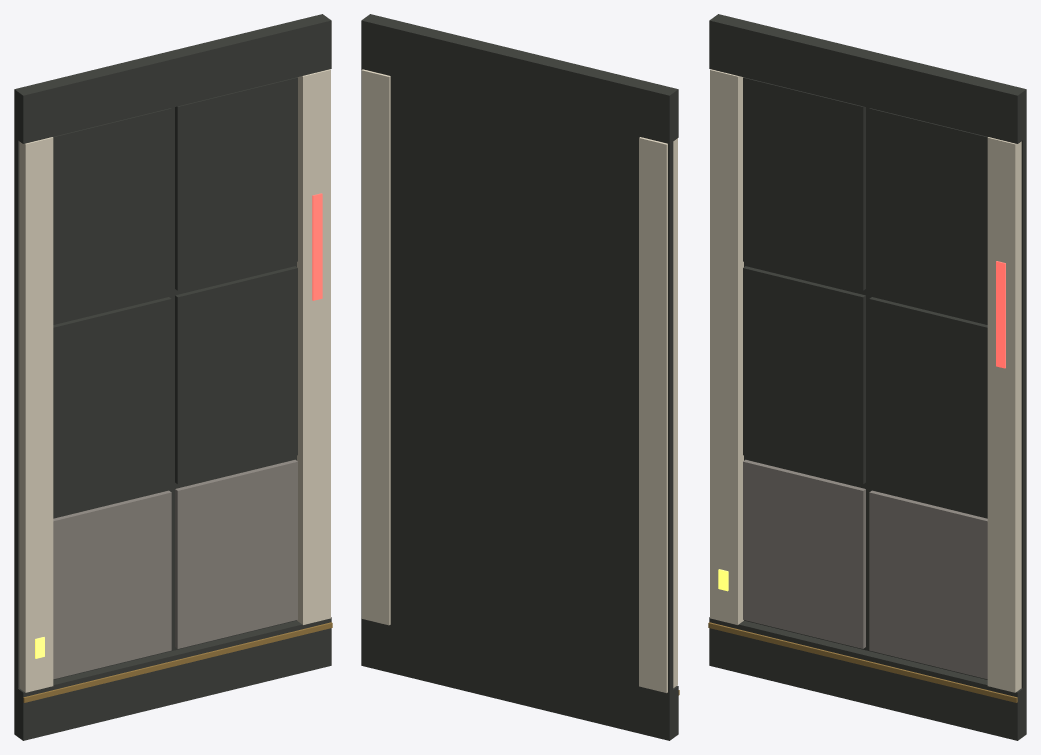
Rendered from b2_wall_flat.glb.
3 views of the same model, side by side, from view 1: azimuth 30°, elevation 25°; view 2: azimuth 150°, elevation 25°; view 3: azimuth 330°, elevation 25° (orthographic).
Parts seen in each view (by area): view 1: b2_wall_flat; view 2: b2_wall_flat; view 3: b2_wall_flat.
Boxes of the visible parts, bbox=[...] form: b2_wall_flat: bbox=[14, 14, 332, 740]; b2_wall_flat: bbox=[361, 14, 679, 740]; b2_wall_flat: bbox=[708, 14, 1026, 740].
Bounding box in the file's own units: 2 × 4 × 0.135.
